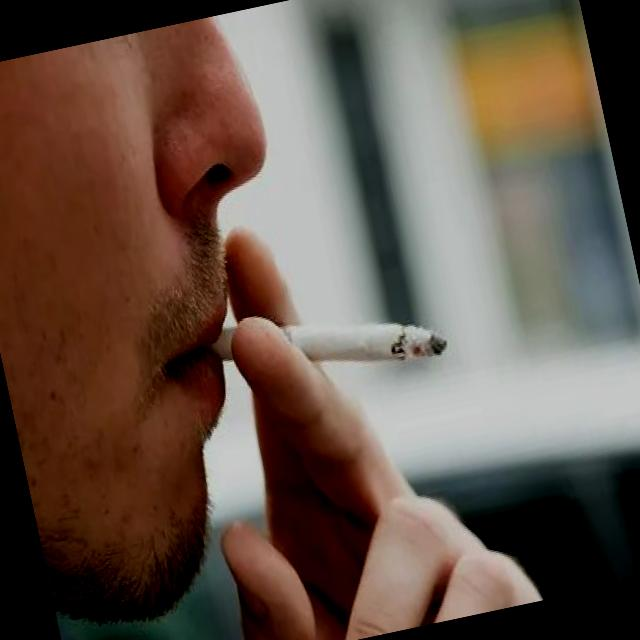smoke: (204, 277, 454, 412)
